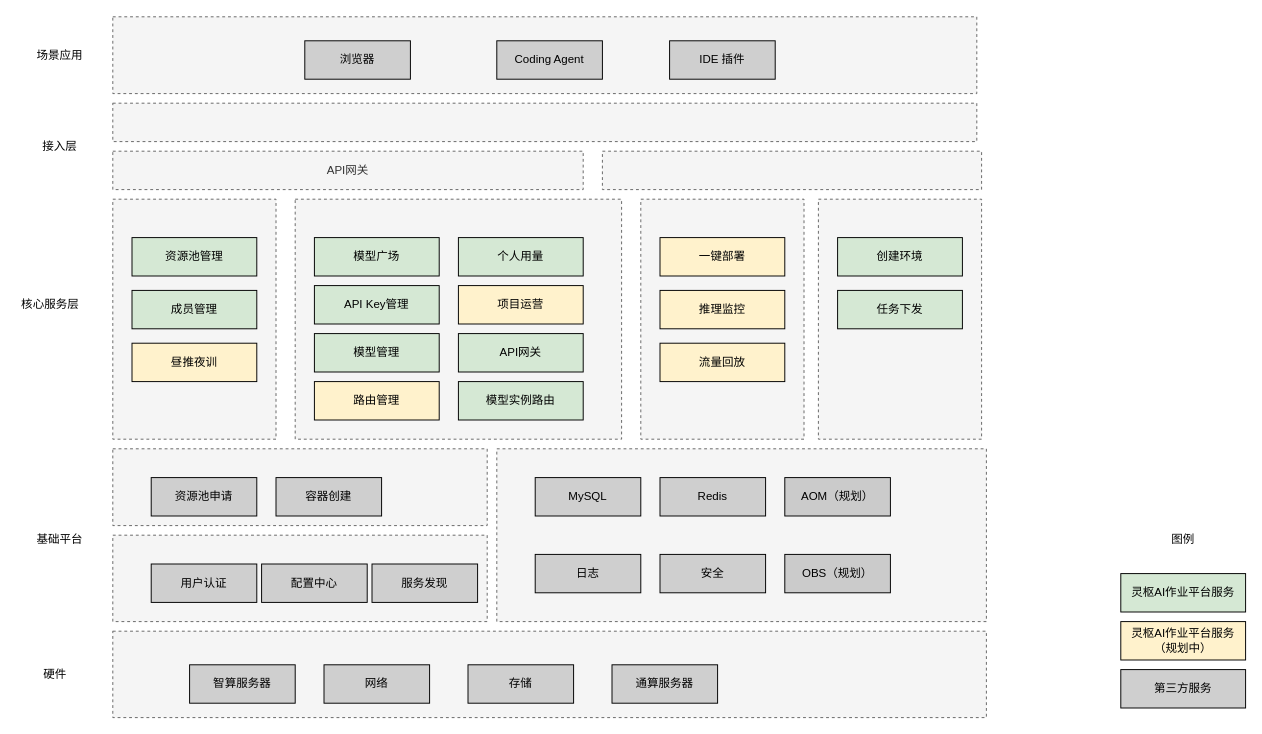
The diagram is 1262 pixels wide and 734 high, and some of its shapes have lost their labels. Each missing label, with the box of its shape:
API中心: (294, 198, 622, 439)
HiDevLab: (112, 448, 487, 526)
OpenLibing: (112, 534, 487, 622)
PC: (112, 16, 977, 94)
一站式插件后端: (817, 198, 982, 439)
前端: (601, 150, 982, 190)
华为云服务: (496, 448, 986, 622)
实验室资源: (112, 630, 986, 718)
推理部署: (640, 198, 804, 439)
负载均衡: (112, 102, 977, 142)
项目空间管理: (112, 198, 276, 439)
